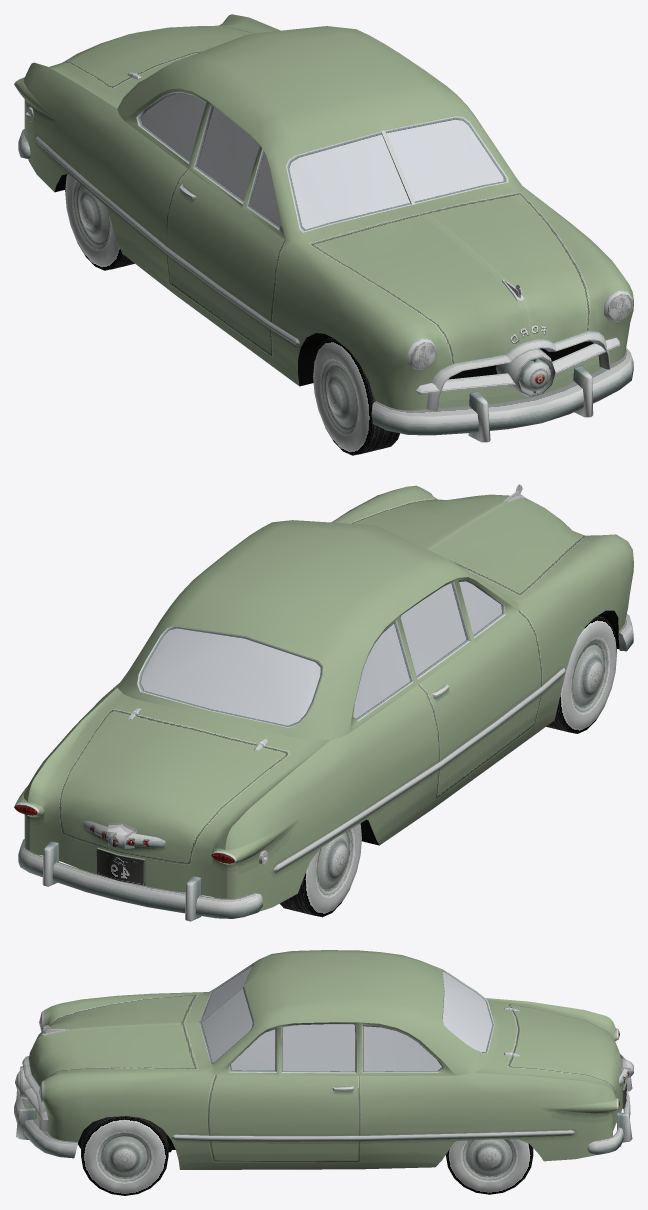
Rendered from 49_COUPE.glb.
The picture shows the model from 3 angles, top to bottom: view 1: azimuth 30°, elevation 25°; view 2: azimuth 150°, elevation 25°; view 3: azimuth 270°, elevation 25°; orthographic projection. The views are drawn at different scales.
Parts seen in each view (by area): view 1: tree_node_1173b8, WHEEL_STATIC_0x1176f8, WHEEL_STATIC_0x117640; view 2: tree_node_1173b8, WHEEL_STATIC_0x1176f8, WHEEL_STATIC_0x117640; view 3: tree_node_1173b8, WHEEL_STATIC_0x117588, WHEEL_STATIC_0x1174d0.
Boxes of the visible parts, box(x1,y1,x2,y2) form: tree_node_1173b8: box(14, 14, 633, 442); WHEEL_STATIC_0x1176f8: box(313, 337, 399, 455); WHEEL_STATIC_0x117640: box(65, 174, 134, 270); tree_node_1173b8: box(14, 484, 633, 921); WHEEL_STATIC_0x1176f8: box(546, 616, 616, 733); WHEEL_STATIC_0x117640: box(279, 823, 361, 917); tree_node_1173b8: box(14, 950, 633, 1169); WHEEL_STATIC_0x117588: box(81, 1116, 168, 1195); WHEEL_STATIC_0x1174d0: box(446, 1139, 533, 1194).
Bounding box in the file's own units: 1.85 × 1.59 × 4.94.
2 materials, 1 textured.
